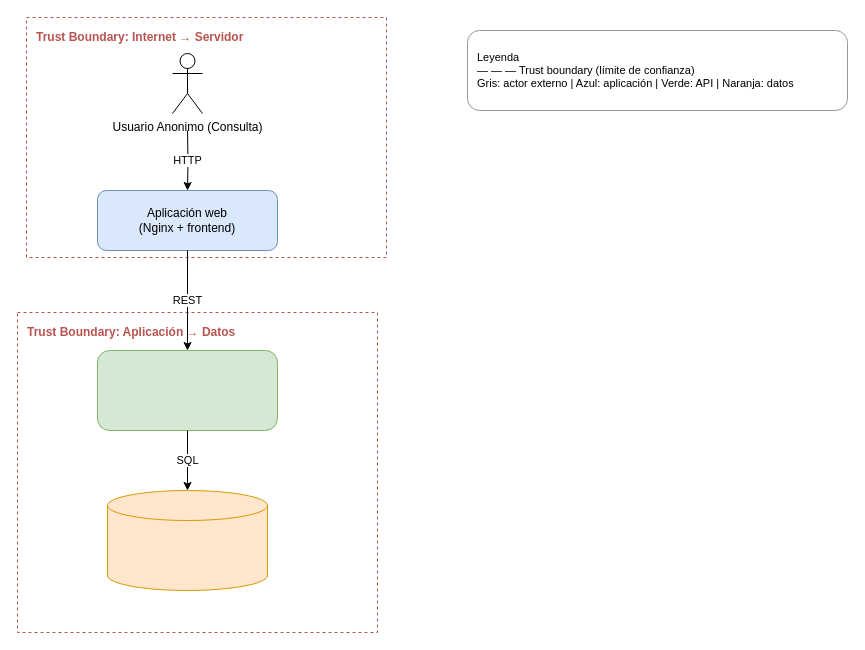
The diagram is 865 pixels wide and 650 high, and some of its shapes have lost their labels. The centre of each missing label's shape, as x and y in pixels:
API pública (solo lectura / GET) Ejecución de scripts: SIMULADA, no real: the point at 187,390
PostgreSQL Inventario de dispositivos (firewalls, routers, switches): the point at 187,540
